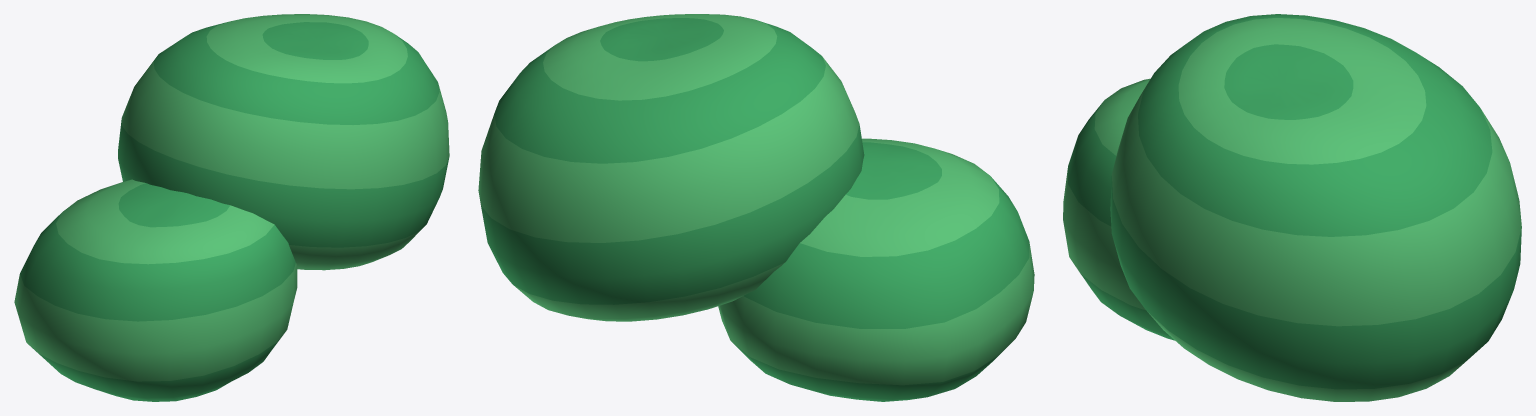
The model's file is Tree_Top_C_03.fbx.
3 renders of one model, left to right at view 1: azimuth 30°, elevation 25°; view 2: azimuth 150°, elevation 25°; view 3: azimuth 270°, elevation 25°, orthographic. The views are drawn at different scales.
Visible parts, largest first — view 1: Tree_Top_C_03_LOD0; view 2: Tree_Top_C_03_LOD0; view 3: Tree_Top_C_03_LOD0.
Part boxes in pixels (x1,y1,x2,y2): Tree_Top_C_03_LOD0: (14,14,449,401); Tree_Top_C_03_LOD0: (478,14,1034,401); Tree_Top_C_03_LOD0: (1063,14,1521,401).
Size of what is drawn, in the model's own units: 936 by 598 by 692.
